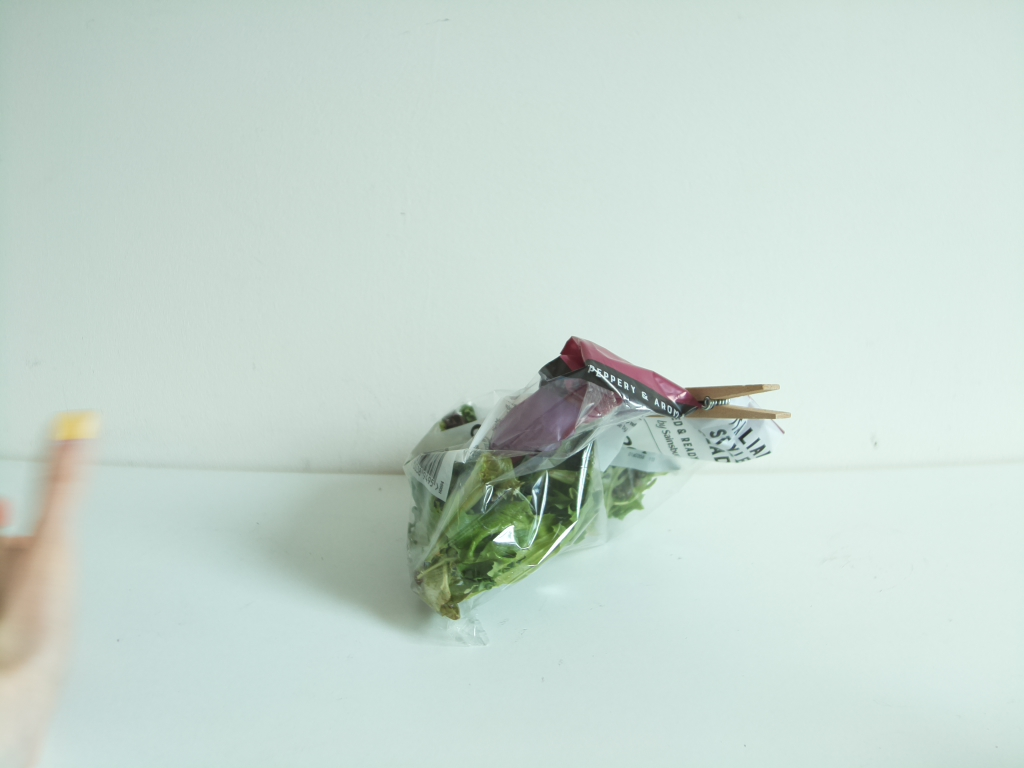salad: (403, 335, 687, 635)
